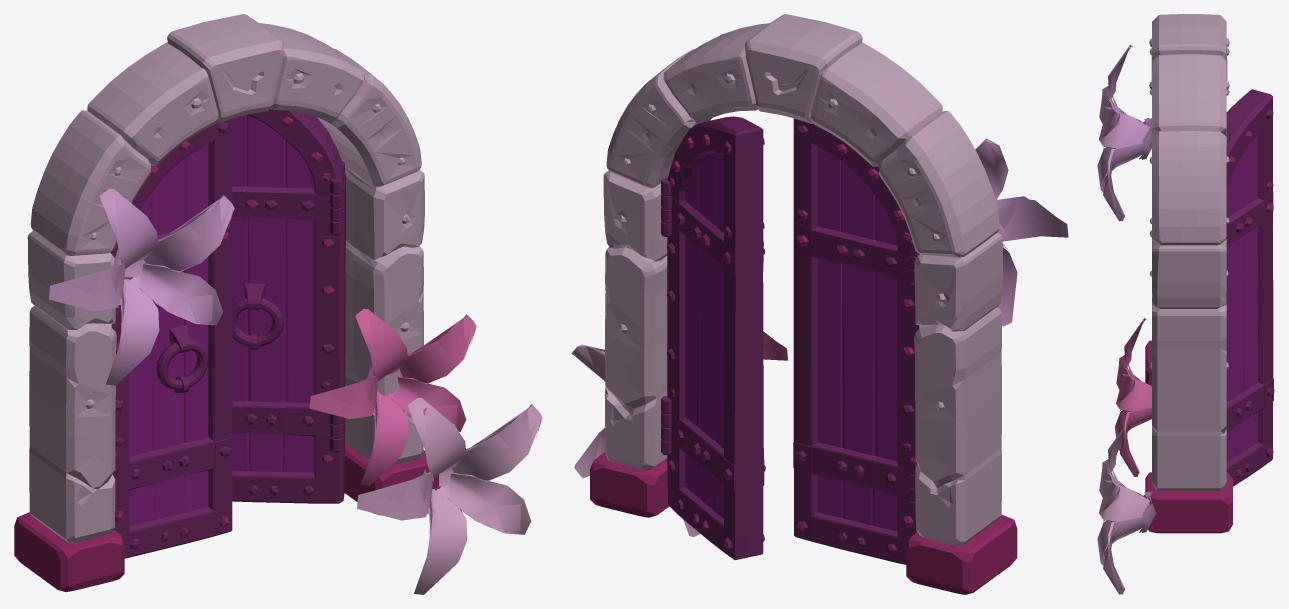
File: romcom_door2.glb
3 views of the same model, side by side, from view 1: azimuth 30°, elevation 25°; view 2: azimuth 150°, elevation 25°; view 3: azimuth 270°, elevation 25° (orthographic). The views are drawn at different scales.
Parts seen in each view (by area): view 1: goldstone-material, metal-material, wood-material, Object_2.003, Object_2.001, Object_2.002, stone-material; view 2: goldstone-material, metal-material, wood-material, stone-material, Object_2.003, Object_2.001; view 3: goldstone-material, metal-material, wood-material, stone-material, Object_2.001, Object_2.003, Object_2.002.
Part boxes in pixels (<box>): goldstone-material: <box>27,14,424,543</box>; metal-material: <box>110,108,346,558</box>; wood-material: <box>129,114,313,526</box>; Object_2.003: <box>49,188,234,385</box>; Object_2.001: <box>357,398,542,594</box>; Object_2.002: <box>309,308,476,485</box>; stone-material: <box>14,116,438,591</box>; goldstone-material: <box>603,14,1002,545</box>; metal-material: <box>661,116,919,564</box>; wood-material: <box>685,147,897,531</box>; stone-material: <box>590,134,1017,594</box>; Object_2.003: <box>975,138,1068,326</box>; Object_2.001: <box>571,344,700,536</box>; goldstone-material: <box>1149,14,1229,490</box>; metal-material: <box>1226,89,1274,486</box>; wood-material: <box>1226,134,1257,462</box>; stone-material: <box>1145,131,1273,533</box>; Object_2.001: <box>1097,426,1156,594</box>; Object_2.003: <box>1097,45,1151,221</box>; Object_2.002: <box>1114,318,1151,476</box>.
Size of the model in its own units: 2.59 by 2.86 by 0.9404.
